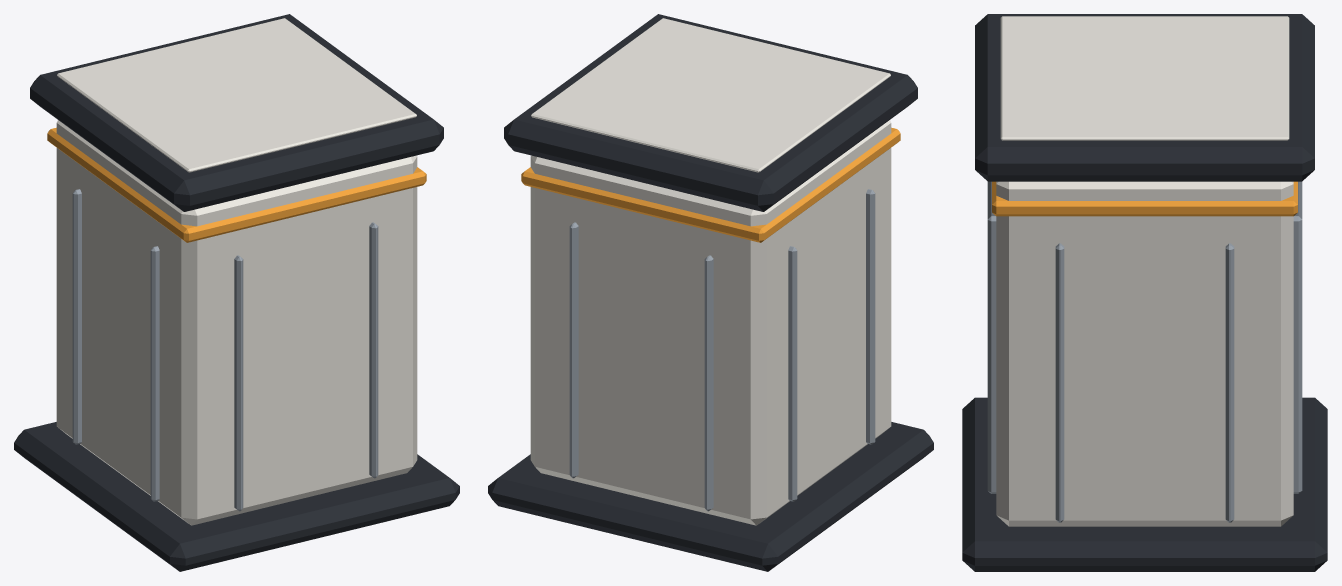
The model's file is display_pedestal.obj.
The picture shows the model from 3 angles, left to right: view 1: azimuth 30°, elevation 25°; view 2: azimuth 150°, elevation 25°; view 3: azimuth 270°, elevation 25°; orthographic projection. The views are drawn at different scales.
Visible parts, largest first — view 1: display_pedestal; view 2: display_pedestal; view 3: display_pedestal.
Boxes of the visible parts, x1=… form: display_pedestal: x1=14, y1=14, x2=459, y2=571; display_pedestal: x1=488, y1=14, x2=933, y2=571; display_pedestal: x1=962, y1=14, x2=1327, y2=571.
Size of the model in its own units: 0.86 by 1.1 by 0.86.
